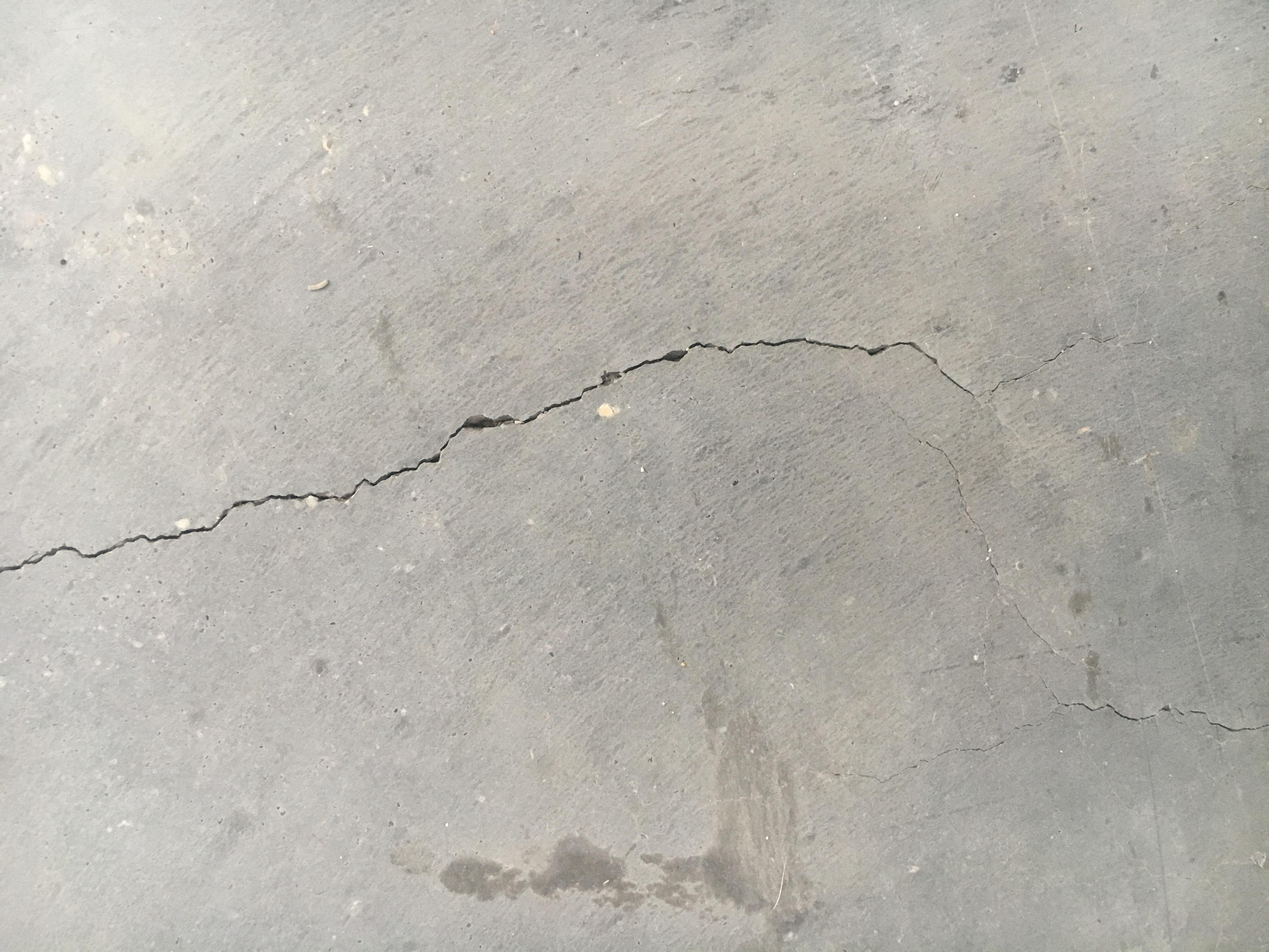Hairline-Crack: (878, 438, 1269, 786)
Horizontal Settlement Crack: (1, 313, 1245, 609)
